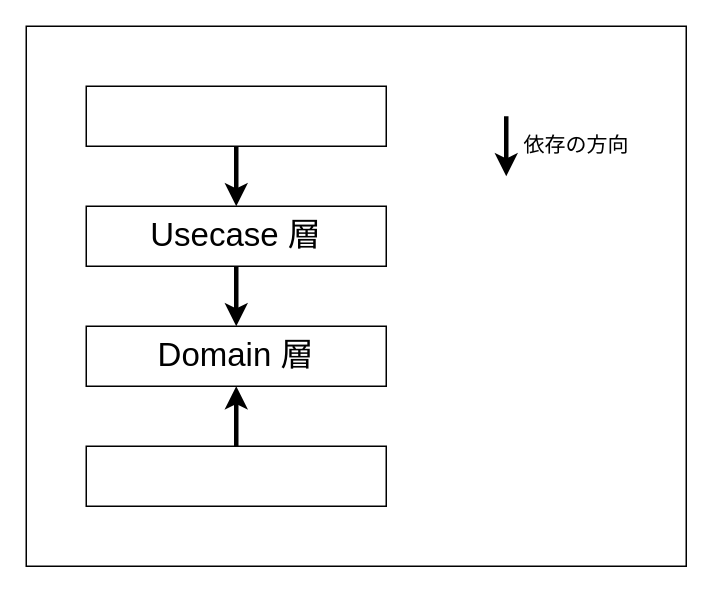
Some shapes in this 713 by 593 pixel diagram are drawn without their labels. Here are the shapes that lost their labels. From the top down, the centre of each, then its label:
(235,115): Hnadler 層
(235,475): Infra 層
